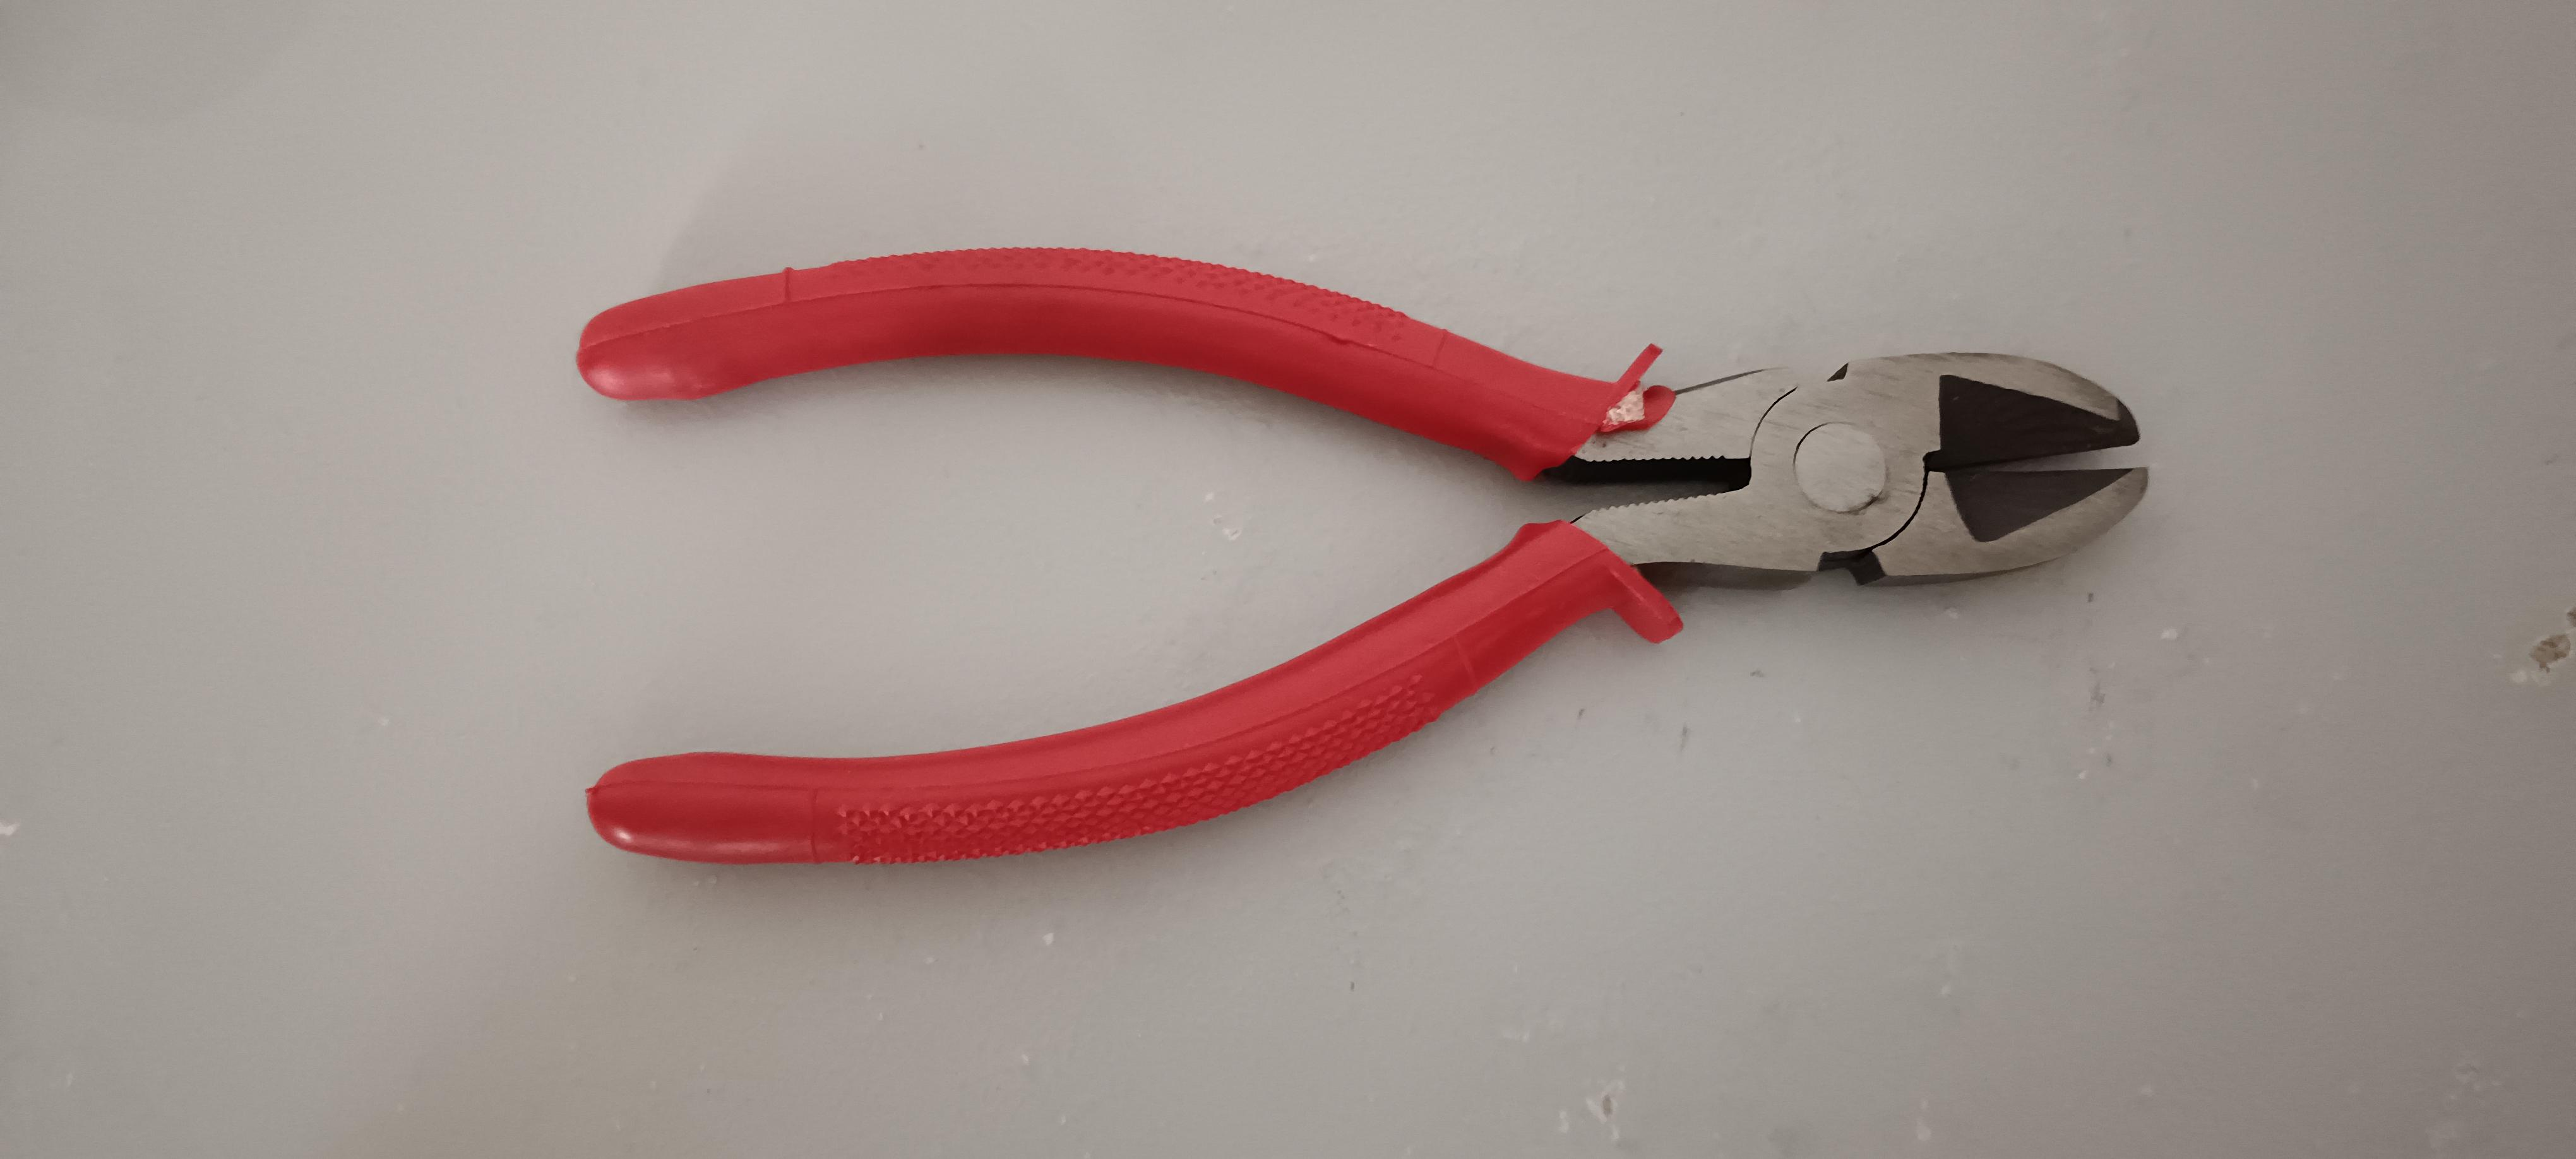Pliers: (539, 171, 2185, 978)
